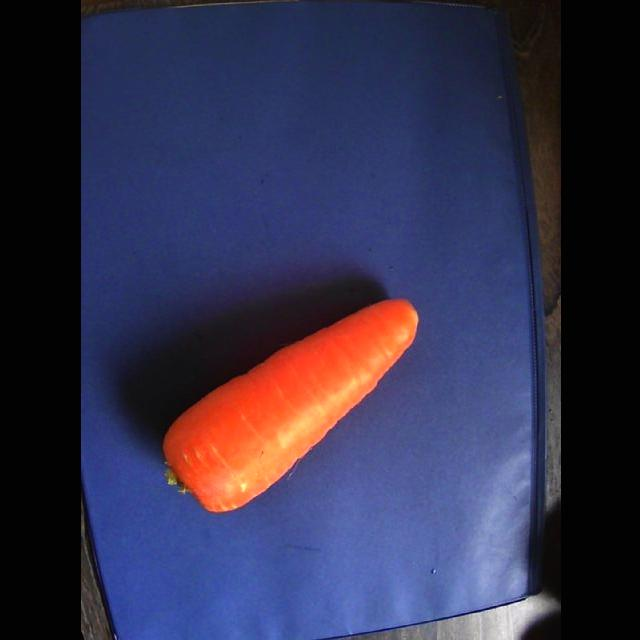zanahoria: (162, 300, 417, 512)
